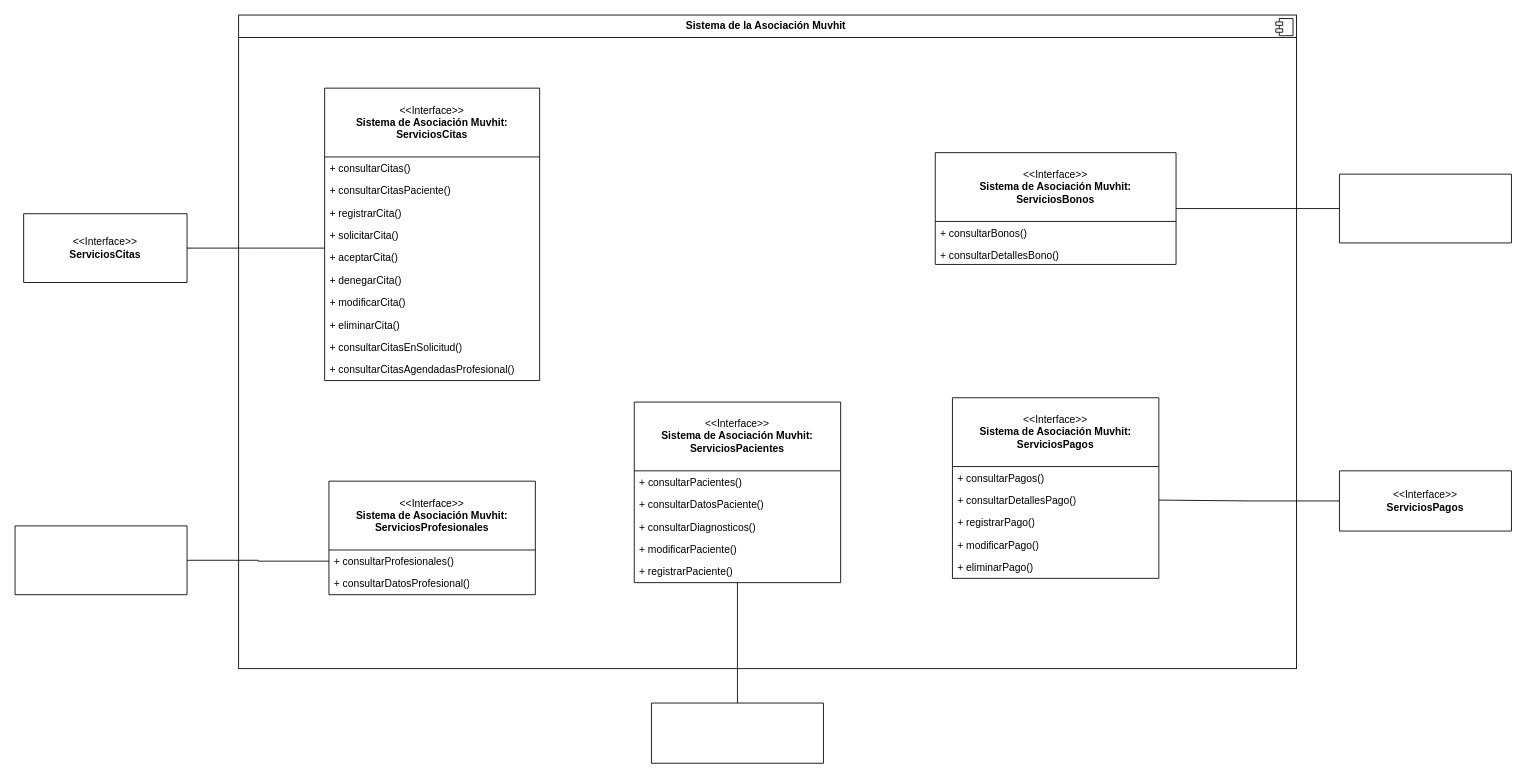
The diagram is 1527 pixels wide and 778 high, and some of its shapes have lost their labels. Here are the shapes that lost their labels. From the top down, the centre of each, then its label:
point 1425,208: <<Interface>> ServiciosBonos
point 100,560: <<Interface>> ServiciosProfesionales
point 737,732: <<Interface>> ServiciosPacientes
